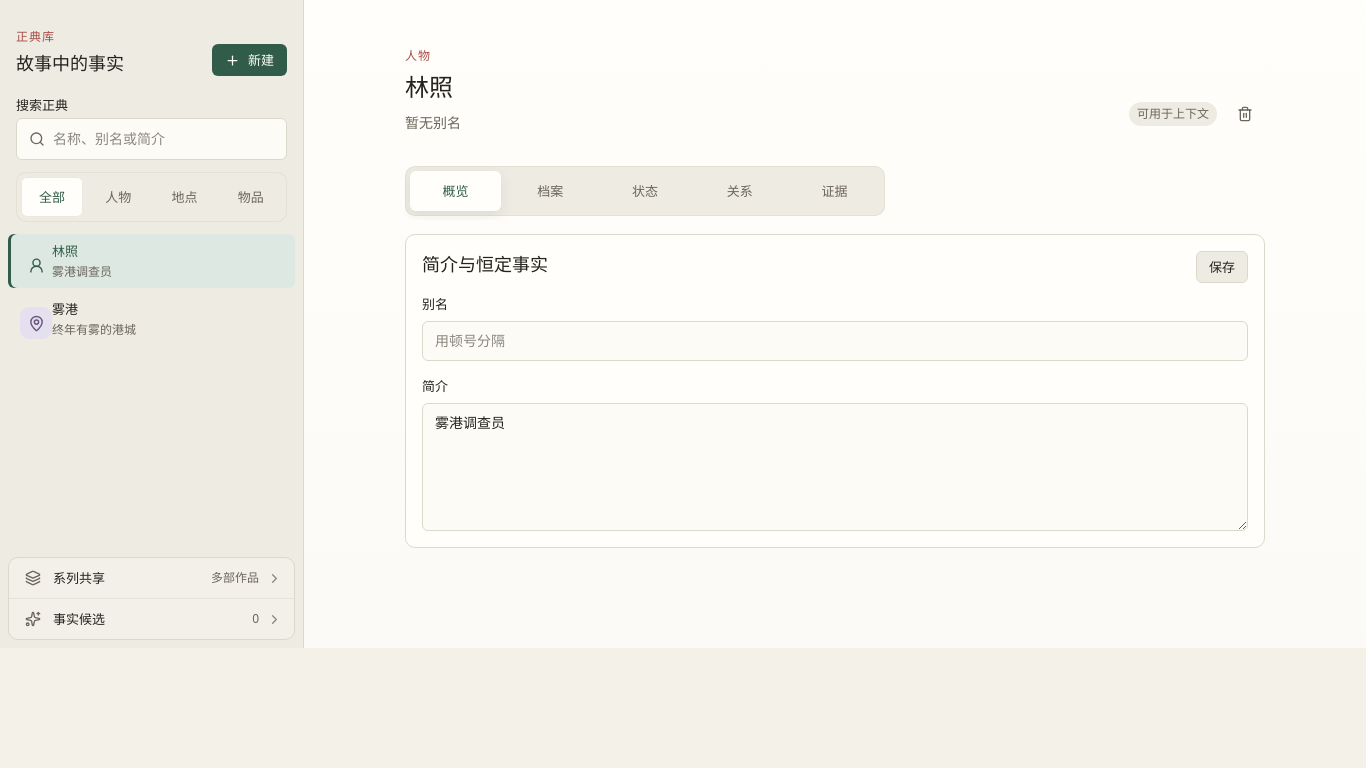
it: CanonWorkspace library template › provides an equivalent relationship list and keyboard-focusable graph projection
Click the tab "关系" at (740, 191), box [694, 171, 785, 211]
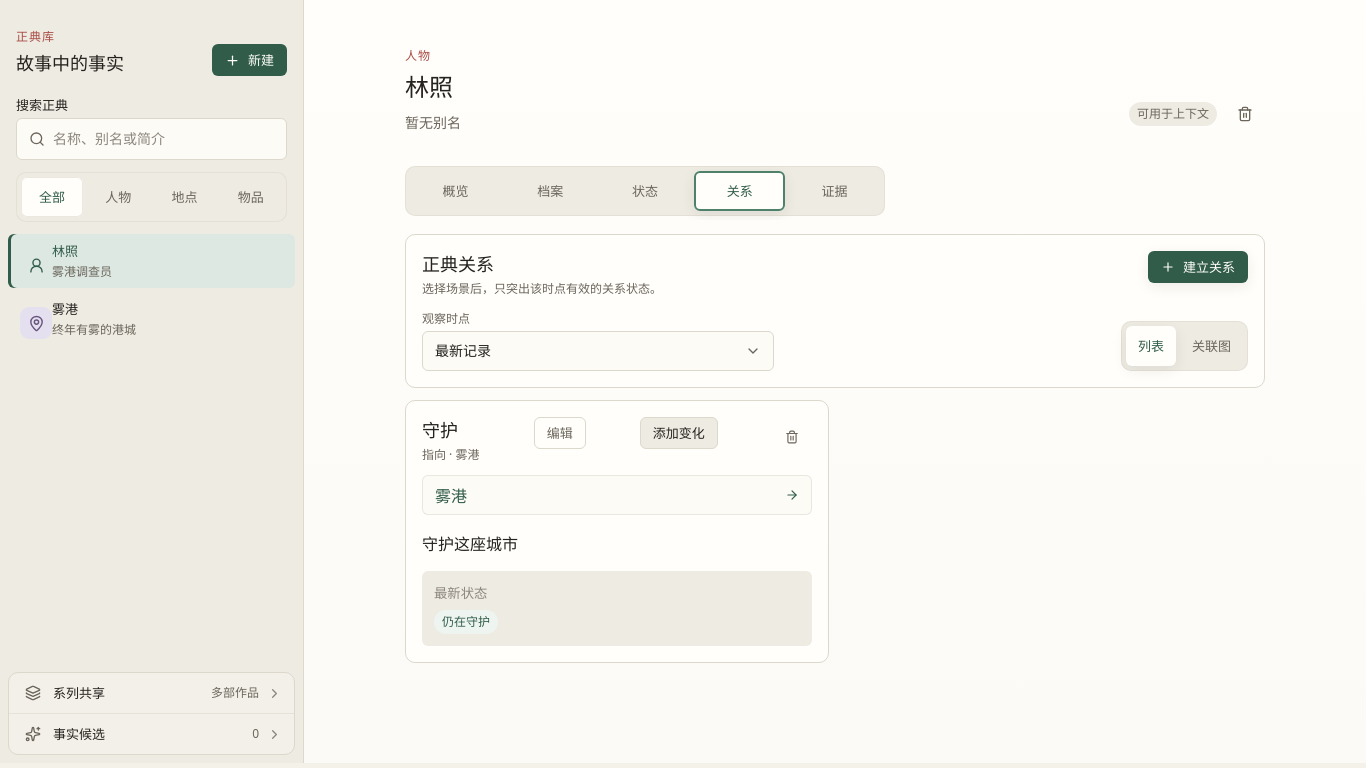
Now the text "仍在守护" is shown, box [434, 610, 498, 634]
Click the tab "关联图" at (1212, 346), box [1180, 326, 1243, 366]
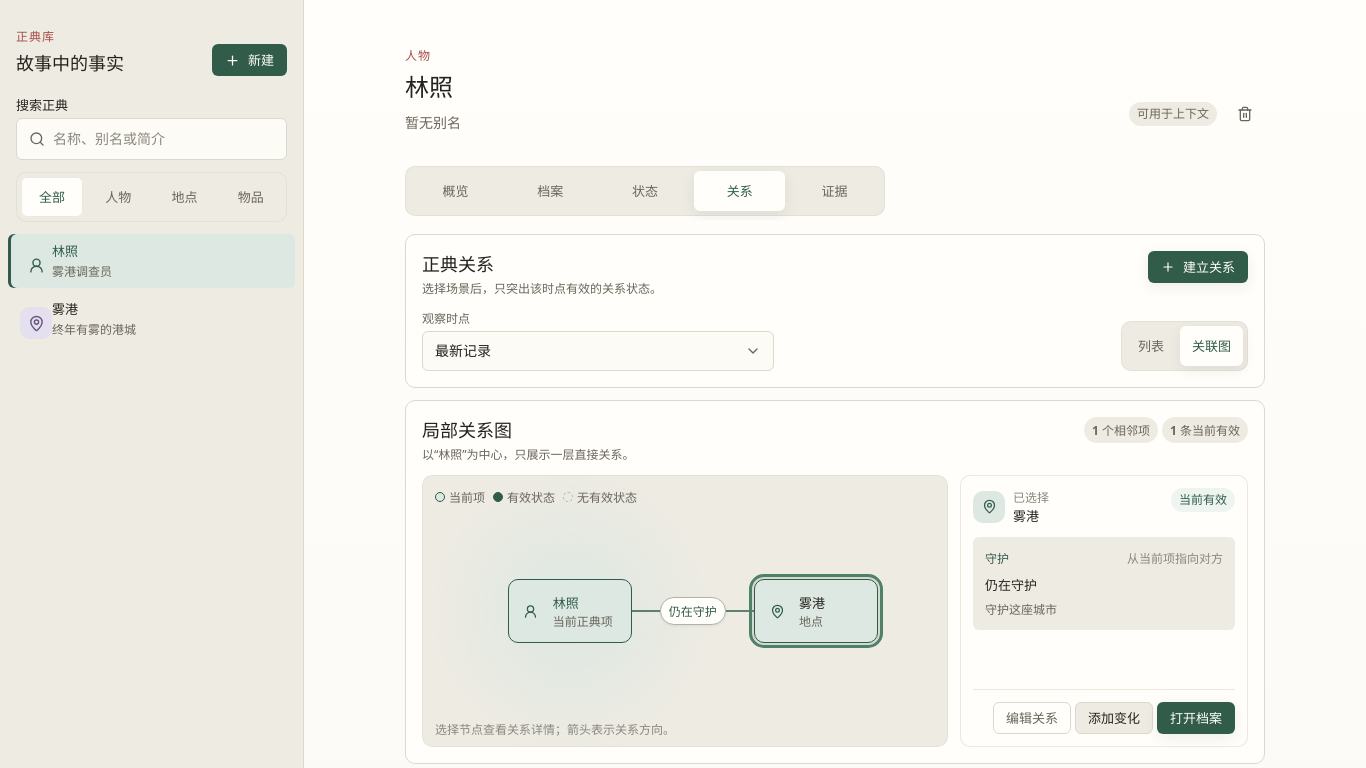
Now the button with aria-label "查看雾港的关系：仍在守护" is shown, box [754, 579, 878, 643]
Now the element named "雾港关系详情" shows "守护这座城市", box [985, 601, 1057, 618]
Now the button "打开档案" is shown, box [1157, 702, 1235, 734]
